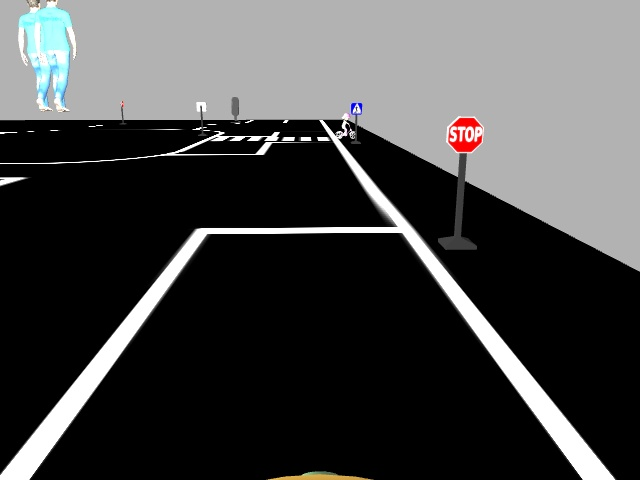Stop: (444, 113, 484, 153)
